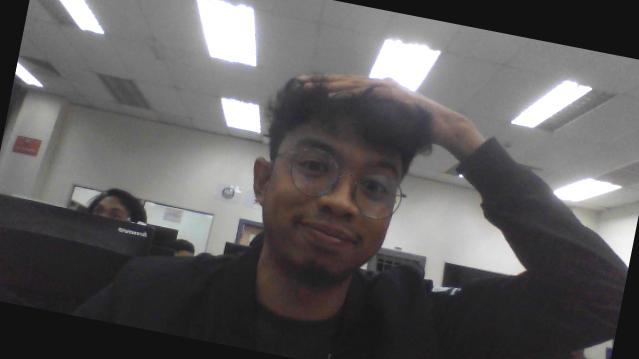senang: (202, 51, 458, 313)
